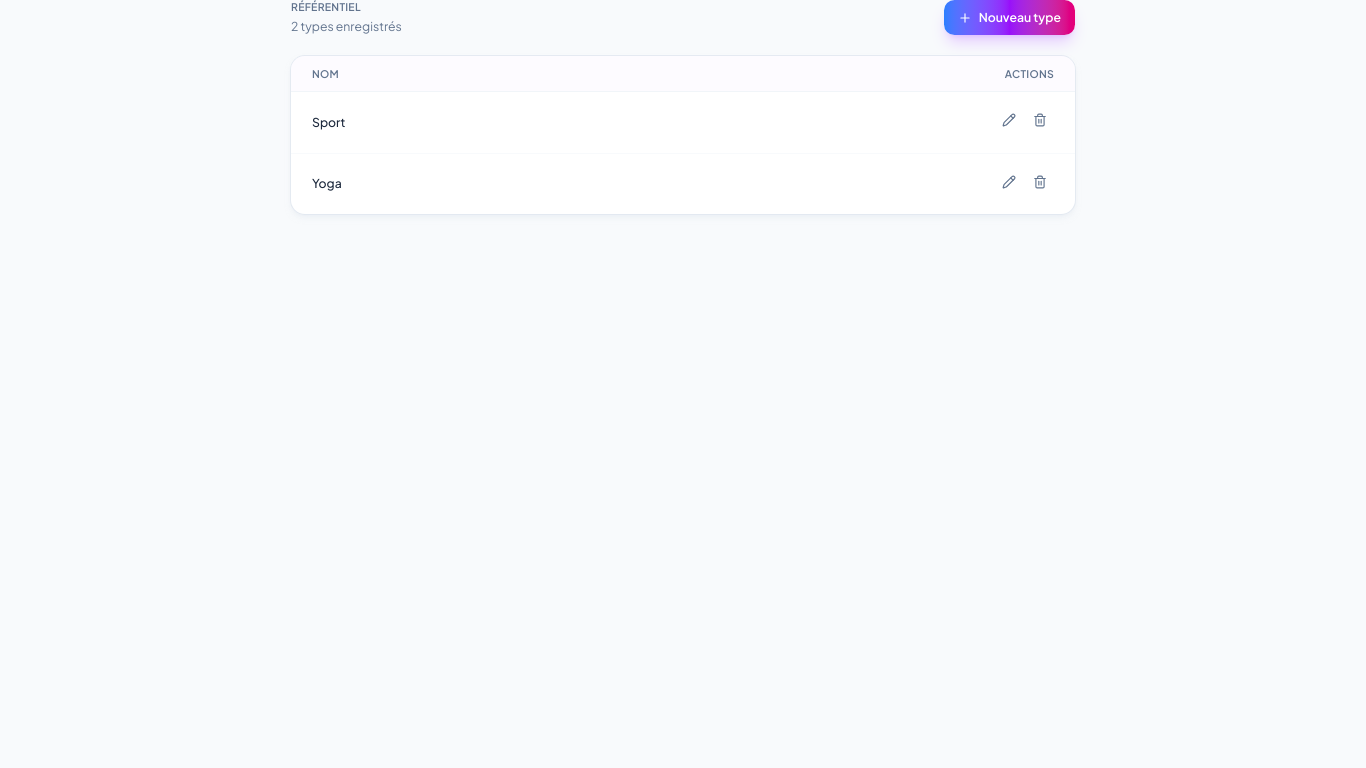
Test case: AdminActivityTypesPage › ouvre la boîte de dialogue de suppression
Click the button named "supprimer" in the row of "Sport" at (1040, 120), box [1026,106,1054,134]
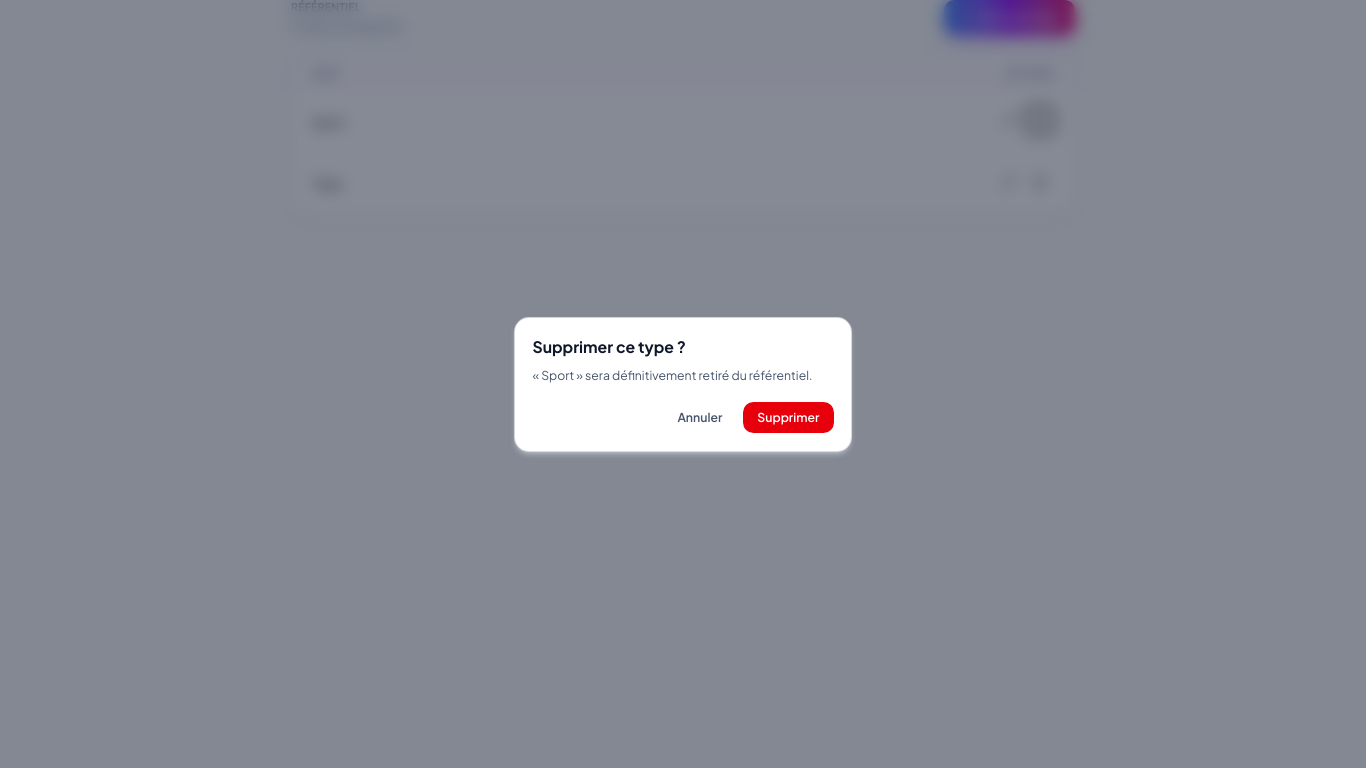
Expected: the heading "Supprimer ce type ?" is shown, [532,337,686,356]
